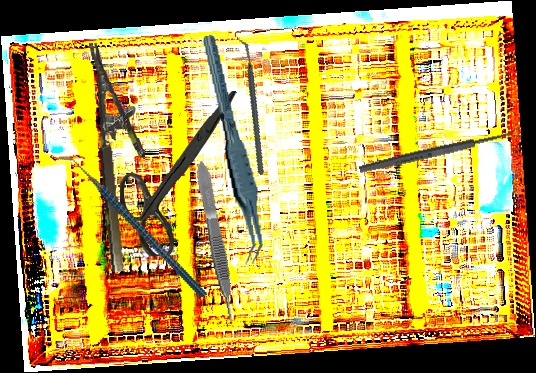Chopper: (55, 124, 208, 329), (202, 37, 301, 176)
Iris Scissors: (119, 89, 237, 258)
Needle Holder: (89, 39, 155, 273)
Surgical Spoon: (358, 126, 523, 176)
Tissue Forceps: (201, 31, 267, 268), (193, 159, 239, 327)
